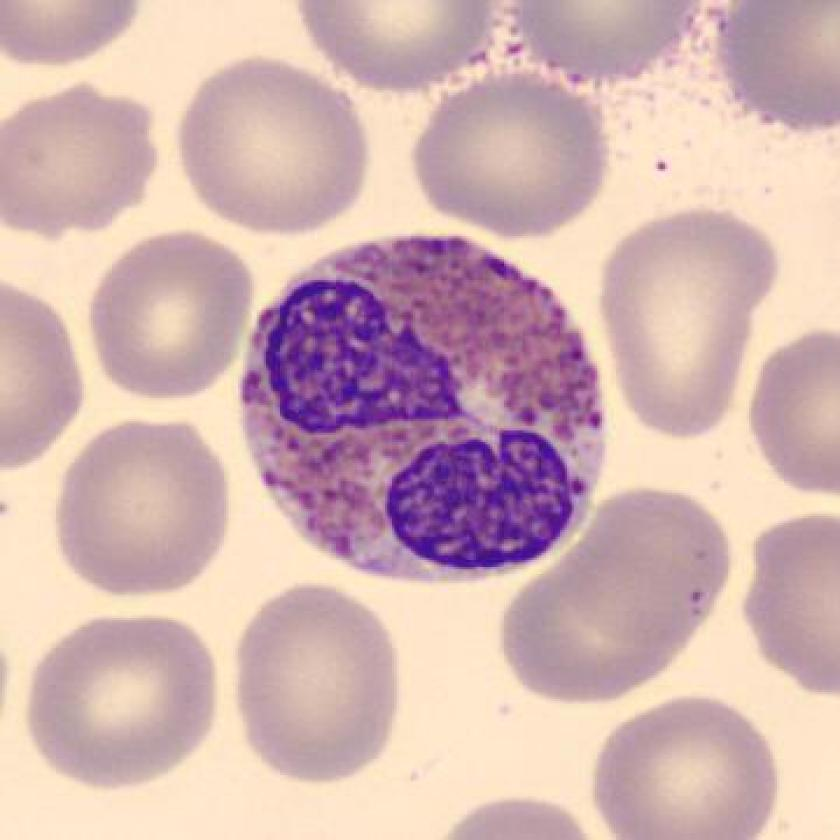eosinophil: (223, 223, 617, 605)
